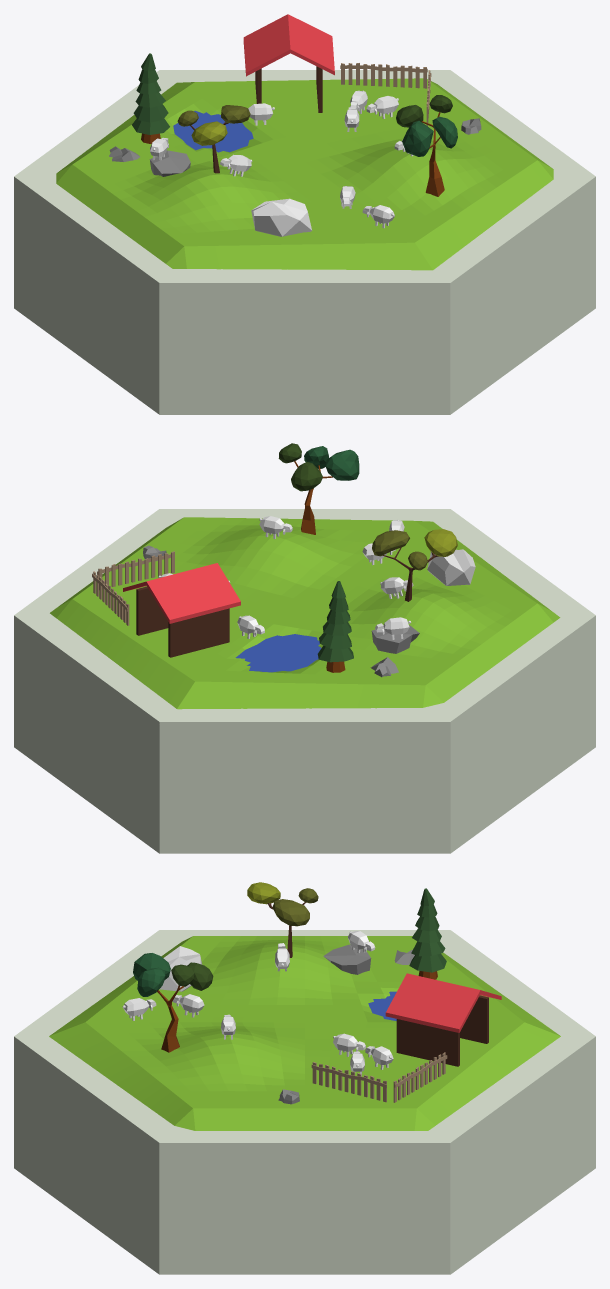
File: Pasture.fbx
The picture shows the model from 3 angles, top to bottom: view 1: azimuth 30°, elevation 25°; view 2: azimuth 150°, elevation 25°; view 3: azimuth 270°, elevation 25°; orthographic projection.
Visible parts, largest first — view 1: Base, Pasture, Stable Roof, Sheep, Tree, Tree 2, Rock2, Tree 3, Fence, Lake, Stones; view 2: Base, Pasture, Stable Roof, Tree, Lake, Sheep, Stable Sidewall, Fence, Tree 2, Tree 3, Stones, Rock2 (+1 smaller); view 3: Base, Pasture, Stable Roof, Sheep, Tree, Fence, Stable Sidewall 2, Tree 2, Tree 3, Stones, Stable Sidewall, Rock2.
Part boxes in pixels (<box>): Base: <box>14,70,595,414</box>; Pasture: <box>56,78,553,270</box>; Stable Roof: <box>243,14,334,76</box>; Sheep: <box>150,90,413,228</box>; Tree: <box>396,95,457,196</box>; Tree 2: <box>132,53,169,143</box>; Rock2: <box>251,198,311,236</box>; Tree 3: <box>177,105,250,173</box>; Fence: <box>340,63,431,126</box>; Lake: <box>173,110,253,152</box>; Stones: <box>109,118,481,176</box>; Base: <box>14,509,595,853</box>; Pasture: <box>50,517,560,709</box>; Stable Roof: <box>123,563,240,623</box>; Tree: <box>278,443,359,534</box>; Lake: <box>235,634,321,672</box>; Sheep: <box>158,516,413,639</box>; Stable Sidewall: <box>168,608,229,657</box>; Fence: <box>92,551,174,625</box>; Tree 2: <box>317,581,353,672</box>; Tree 3: <box>372,529,457,601</box>; Stones: <box>143,545,419,677</box>; Rock2: <box>427,549,475,585</box>; Base: <box>14,930,595,1274</box>; Pasture: <box>49,936,560,1130</box>; Stable Roof: <box>385,973,501,1032</box>; Sheep: <box>122,931,393,1076</box>; Tree: <box>133,953,213,1052</box>; Fence: <box>311,1052,447,1102</box>; Stable Sidewall 2: <box>396,1019,459,1066</box>; Tree 2: <box>409,888,446,979</box>; Tree 3: <box>247,882,318,957</box>; Stones: <box>278,944,414,1104</box>; Stable Sidewall: <box>460,995,488,1043</box>; Rock2: <box>159,946,202,991</box>.
Bounding box in the file's own units: 1732 × 905 × 2000.
